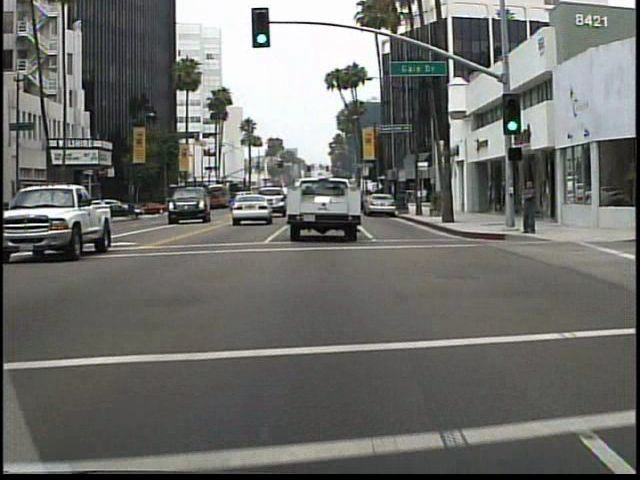person: (515, 174, 538, 240)
